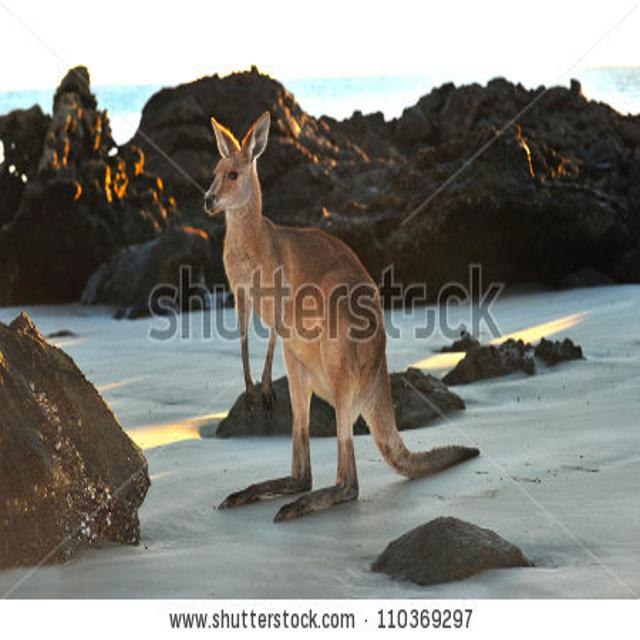kangaroo: (195, 115, 481, 514)
